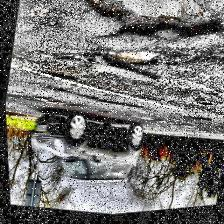pothole: (66, 0, 224, 66), (92, 42, 164, 84)
